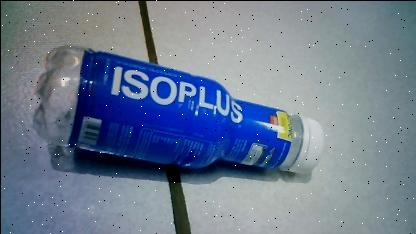Plastic Bottle: (32, 31, 332, 191)
